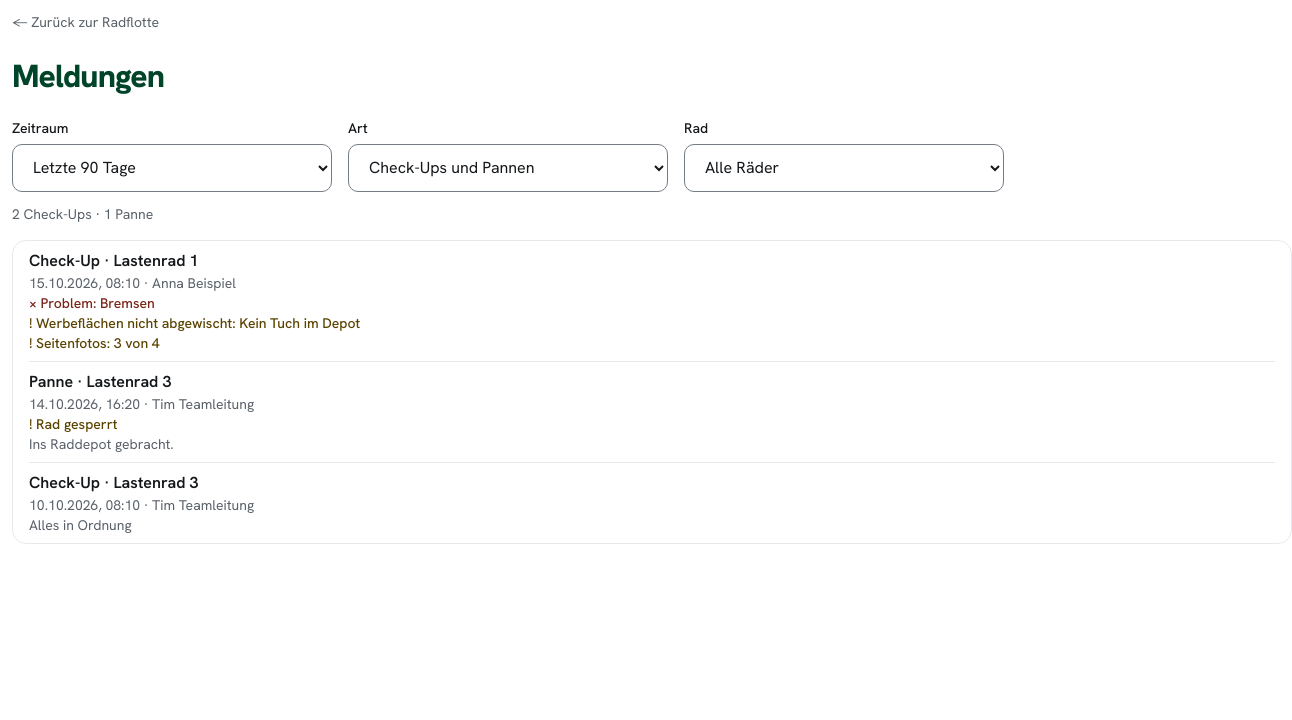
Test: Meldungen der Flotte › filtert nach Art und Rad, nie nach Person (§20)
Expected: the list named "Meldungen" is shown, [12, 240, 1291, 544]
Select "Nur Pannen" in the dropdown labelled "Art" at (508, 168), box [348, 144, 668, 192]
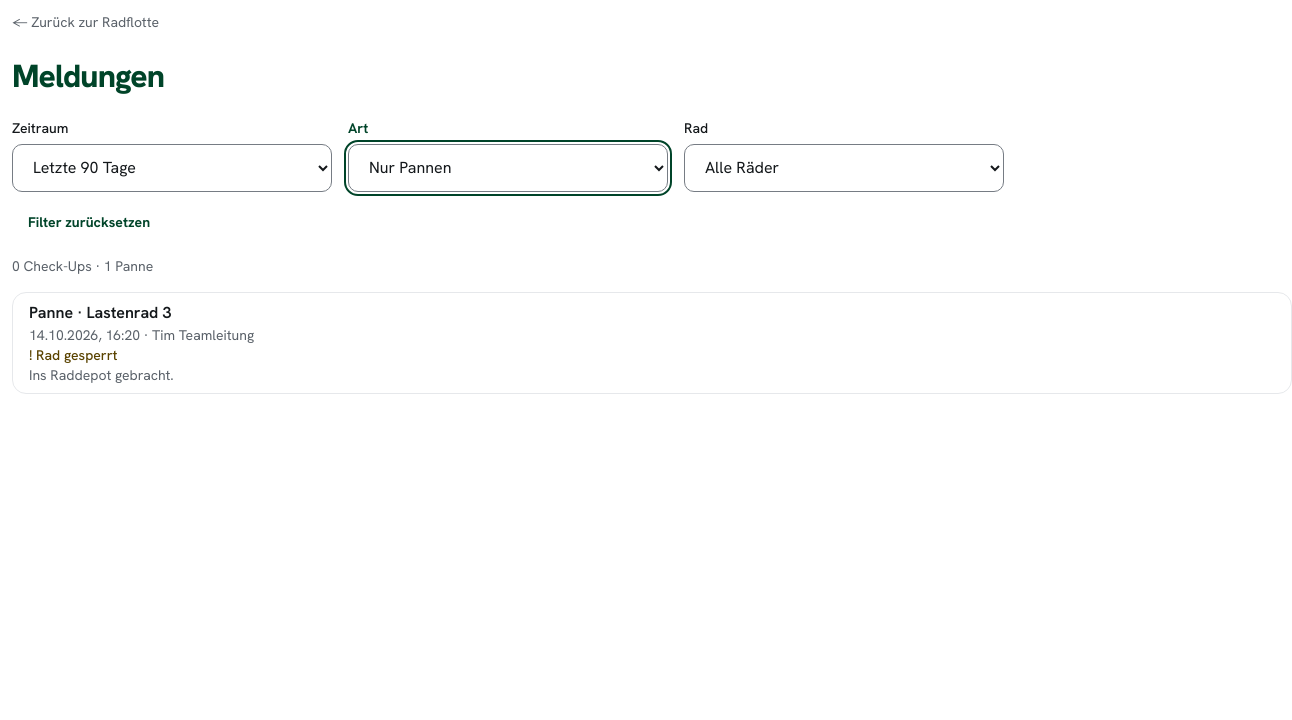
Expected: the number of list items is 1, [29, 302, 254, 384]
Select "Check-Ups und Pannen" in the dropdown labelled "Art" at (508, 168), box [348, 144, 668, 192]
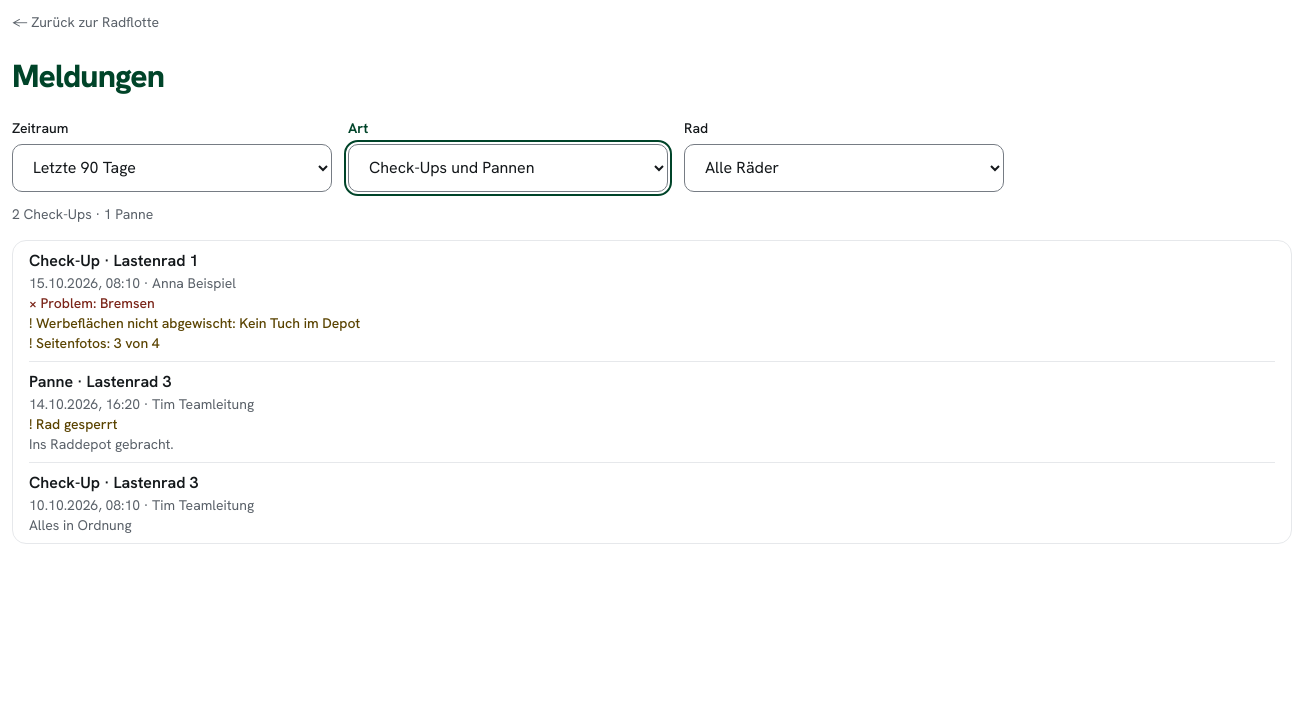
Select "Lastenrad 3" in the dropdown labelled "Rad" at (844, 168), box [684, 144, 1004, 192]
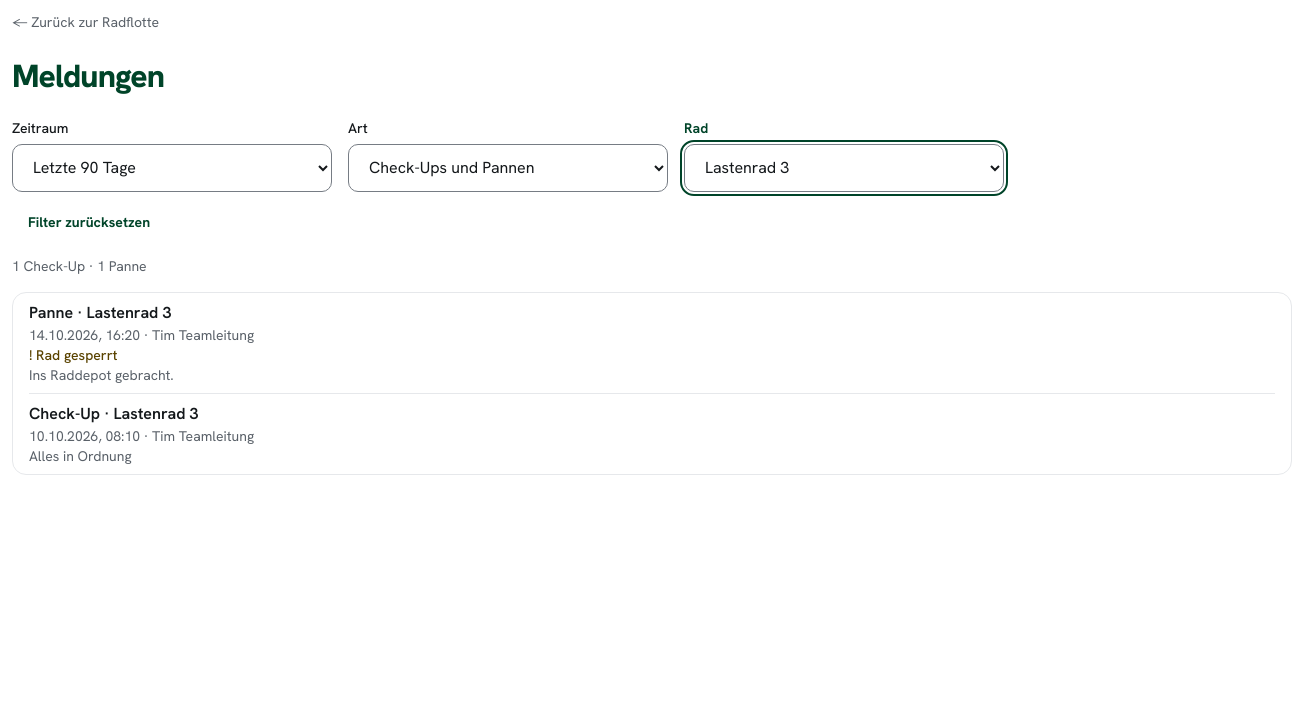
Expected: the number of list items is 2, [29, 302, 254, 384]; [29, 393, 1275, 474]
